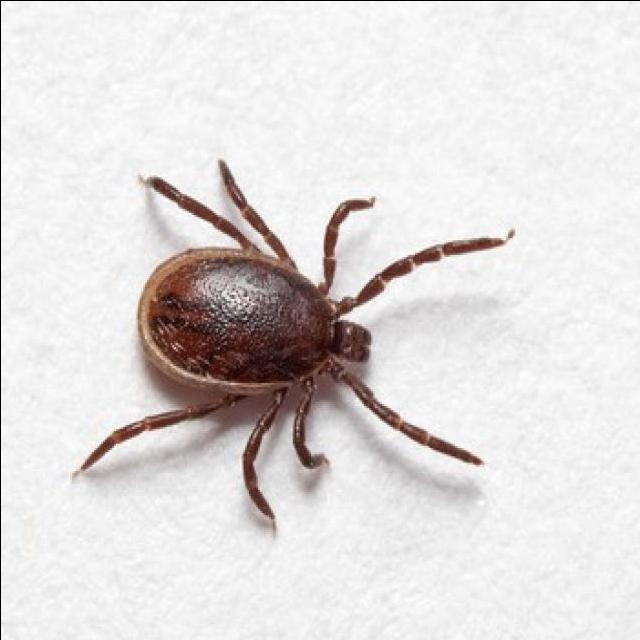Ixodes Ricinus-M: (75, 157, 514, 531)
